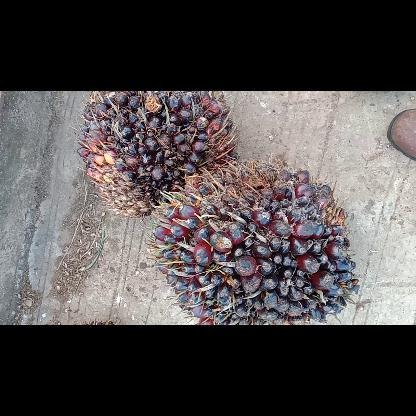TBS mentah: (153, 160, 359, 324), (77, 91, 238, 216)
